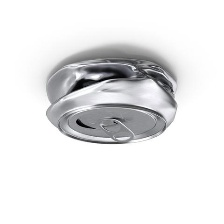can: (38, 50, 185, 151)
